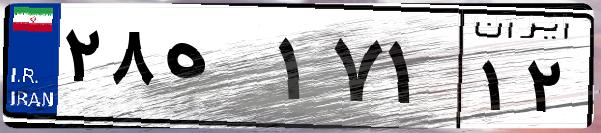1: (270, 28, 330, 110), (385, 28, 445, 110), (475, 38, 525, 113)
2: (57, 26, 110, 100), (525, 38, 570, 115)
7: (330, 28, 385, 110)
8: (110, 28, 158, 98)
ه: (158, 20, 270, 120)
